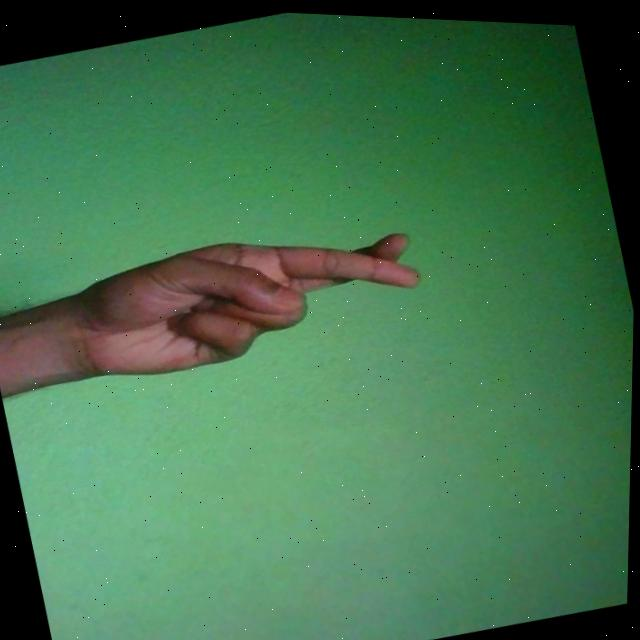Good Luck: (55, 192, 437, 401)
